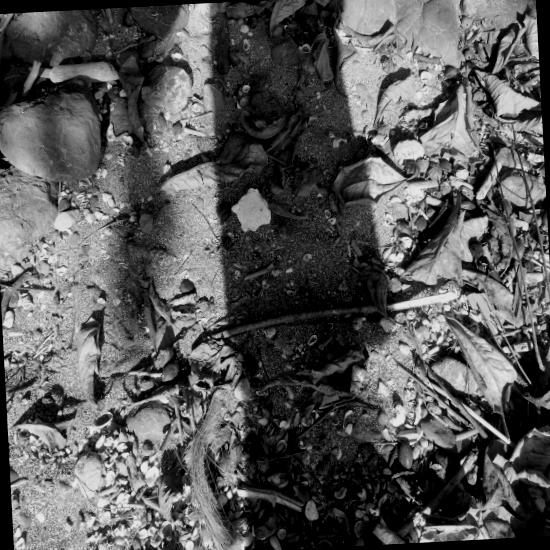Styrofoam piece: (231, 188, 271, 232)
